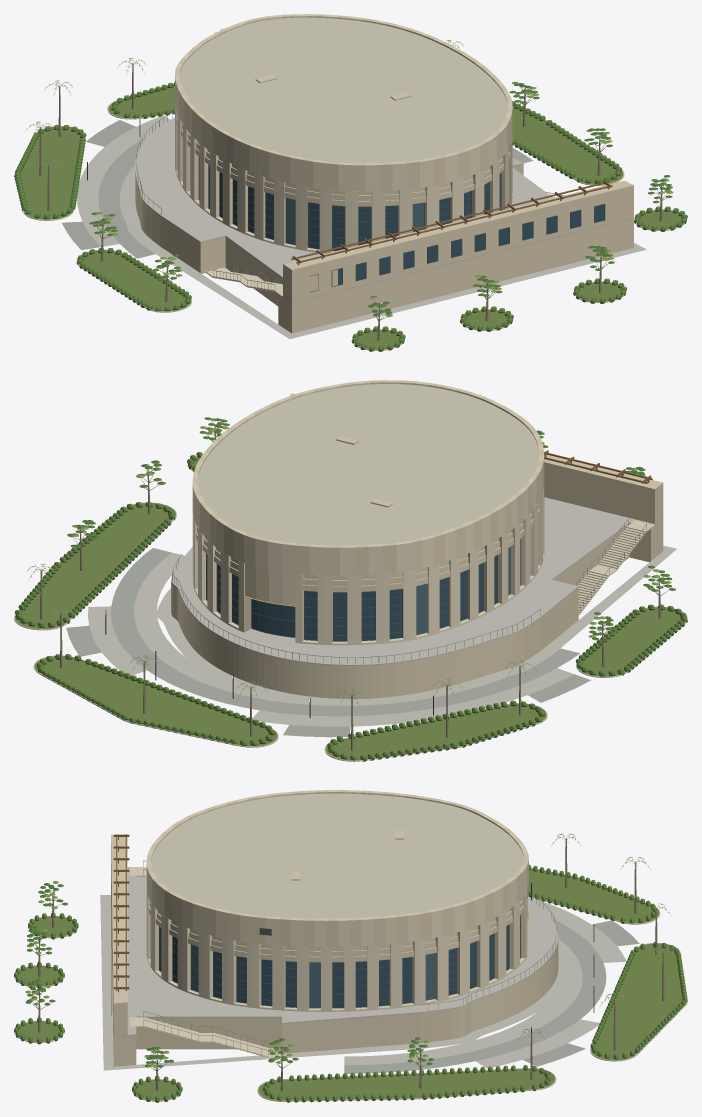
The model's file is hall-lod2.glb.
3 views of the same model, one above another, from view 1: azimuth 30°, elevation 25°; view 2: azimuth 150°, elevation 25°; view 3: azimuth 270°, elevation 25° (orthographic). The views are drawn at different scales.
Visible parts, largest first — view 1: oval roof membrane | roof.002, jointed pale stone facade | limestone light.002, curved podium and terrace | limestone.002, connected planted lawns | lawn.002, rear support wing | limestone.002, podium terrace paving | pale paving.002, continuous low hedges | hedge.002, jointed pale stone facade | limestone.002, deep recessed glazing | blue glazing.002, site perimeter paving | pale paving.002, fan plaza paving | dark paving.002, fan plaza paving | pale paving.002 (+9 smaller); view 2: oval roof membrane | roof.002, jointed pale stone facade | limestone light.002, connected planted lawns | lawn.002, curved podium and terrace | limestone.002, podium terrace paving | pale paving.002, fan plaza paving | dark paving.002, fan plaza paving | pale paving.002, continuous low hedges | hedge.002, jointed pale stone facade | limestone.002, site perimeter paving | pale paving.002, rear support wing | limestone.002, deep recessed glazing | blue glazing.002 (+11 smaller); view 3: oval roof membrane | roof.002, jointed pale stone facade | limestone light.002, connected planted lawns | lawn.002, curved podium and terrace | limestone.002, podium terrace paving | pale paving.002, jointed pale stone facade | limestone.002, continuous low hedges | hedge.002, fan plaza paving | pale paving.002, fan plaza paving | dark paving.002, deep recessed glazing | blue glazing.002, site perimeter paving | pale paving.002, stepped window heads | limestone.002 (+9 smaller).
Boxes of the visible parts, x1,y1,x2,y2 form: oval roof membrane | roof.002: (179,17,507,163); jointed pale stone facade | limestone light.002: (175,14,512,253); curved podium and terrace | limestone.002: (135,164,633,333); connected planted lawns | lawn.002: (20,86,681,349); rear support wing | limestone.002: (283,180,633,302); podium terrace paving | pale paving.002: (135,117,633,303); continuous low hedges | hedge.002: (14,82,687,351); jointed pale stone facade | limestone.002: (175,14,512,191); deep recessed glazing | blue glazing.002: (199,157,604,284); site perimeter paving | pale paving.002: (121,165,646,338); fan plaza paving | dark paving.002: (62,120,533,258); fan plaza paving | pale paving.002: (77,115,170,254); oval roof membrane | roof.002: (198,384,538,545); jointed pale stone facade | limestone light.002: (192,380,544,645); connected planted lawns | lawn.002: (15,457,684,760); curved podium and terrace | limestone.002: (171,519,663,698); podium terrace paving | pale paving.002: (171,497,663,665); fan plaza paving | dark paving.002: (66,548,590,737); fan plaza paving | pale paving.002: (88,552,573,726); continuous low hedges | hedge.002: (15,452,687,761); jointed pale stone facade | limestone.002: (192,380,544,602); site perimeter paving | pale paving.002: (156,545,676,705); rear support wing | limestone.002: (290,393,663,523); deep recessed glazing | blue glazing.002: (206,539,520,641); oval roof membrane | roof.002: (151,793,523,918); jointed pale stone facade | limestone light.002: (146,790,528,1011); connected planted lawns | lawn.002: (18,869,686,1100); curved podium and terrace | limestone.002: (111,877,558,1066); podium terrace paving | pale paving.002: (111,867,558,1036); jointed pale stone facade | limestone.002: (146,790,528,947); continuous low hedges | hedge.002: (14,864,687,1102); fan plaza paving | pale paving.002: (344,896,626,1068); fan plaza paving | dark paving.002: (344,919,639,1073); deep recessed glazing | blue glazing.002: (159,924,509,1007); site perimeter paving | pale paving.002: (100,895,572,1070); stepped window heads | limestone.002: (148,899,524,962).
Size of the model in its own units: 85.14 by 19.95 by 97.24.
